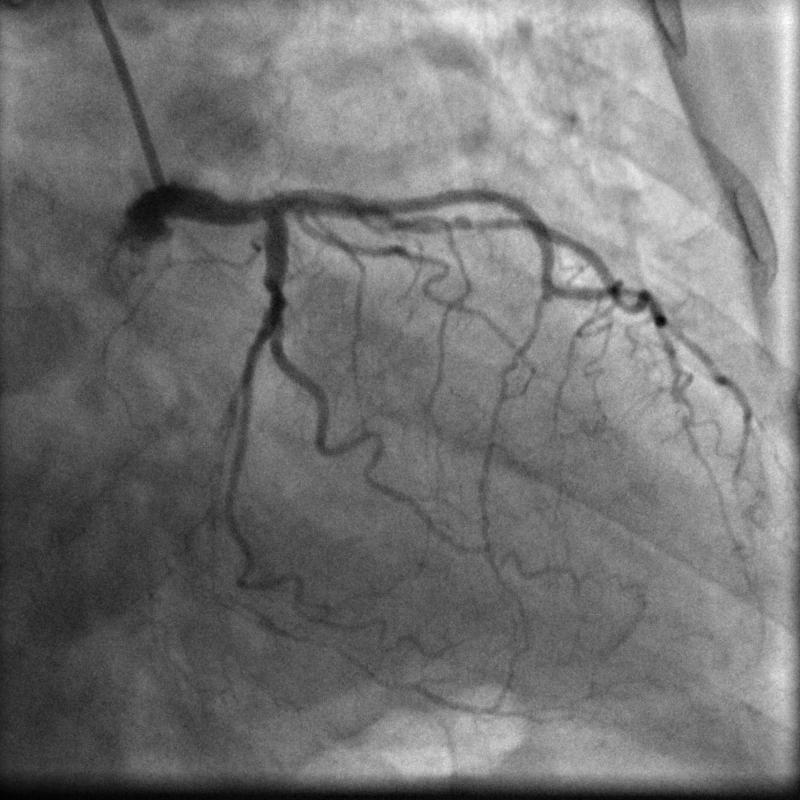Stenosis: (422, 208, 507, 239)
